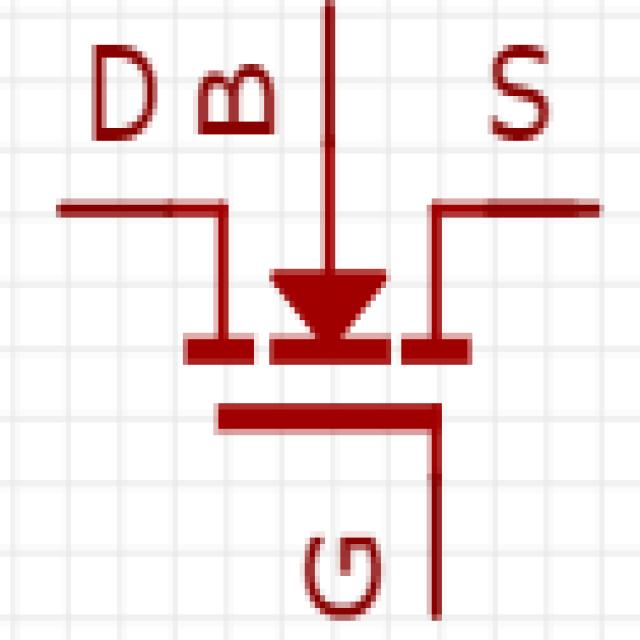nmos: (53, 2, 617, 640)
